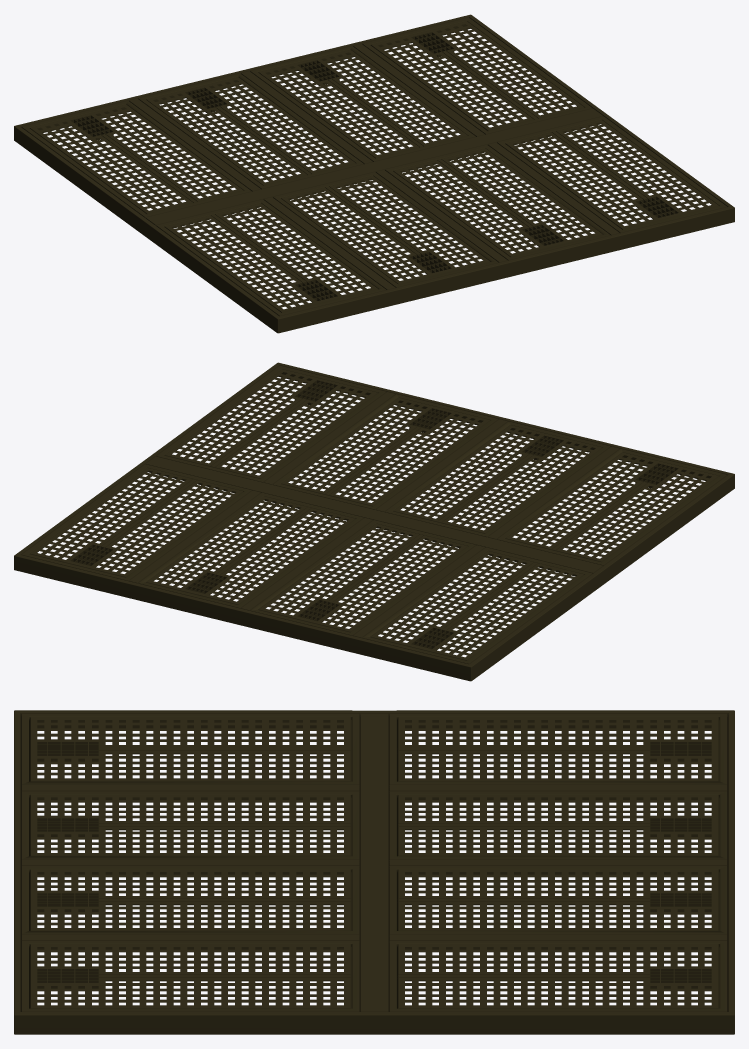
File: Geonosis_Floorplate.fbx
The picture shows the model from 3 angles, top to bottom: view 1: azimuth 30°, elevation 25°; view 2: azimuth 150°, elevation 25°; view 3: azimuth 270°, elevation 25°; orthographic projection. The views are drawn at different scales.
Parts seen in each view (by area): view 1: Geonosis_Floorplate_LOD0; view 2: Geonosis_Floorplate_LOD0; view 3: Geonosis_Floorplate_LOD0.
Boxes of the visible parts, box(x1,y1,x2,y2) form: Geonosis_Floorplate_LOD0: box(14, 14, 734, 333); Geonosis_Floorplate_LOD0: box(14, 362, 734, 681); Geonosis_Floorplate_LOD0: box(14, 710, 734, 1034).
Size of what is drawn, in the model's own units: 498 by 15 by 498.
